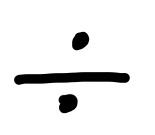div: (13, 33, 130, 112)
